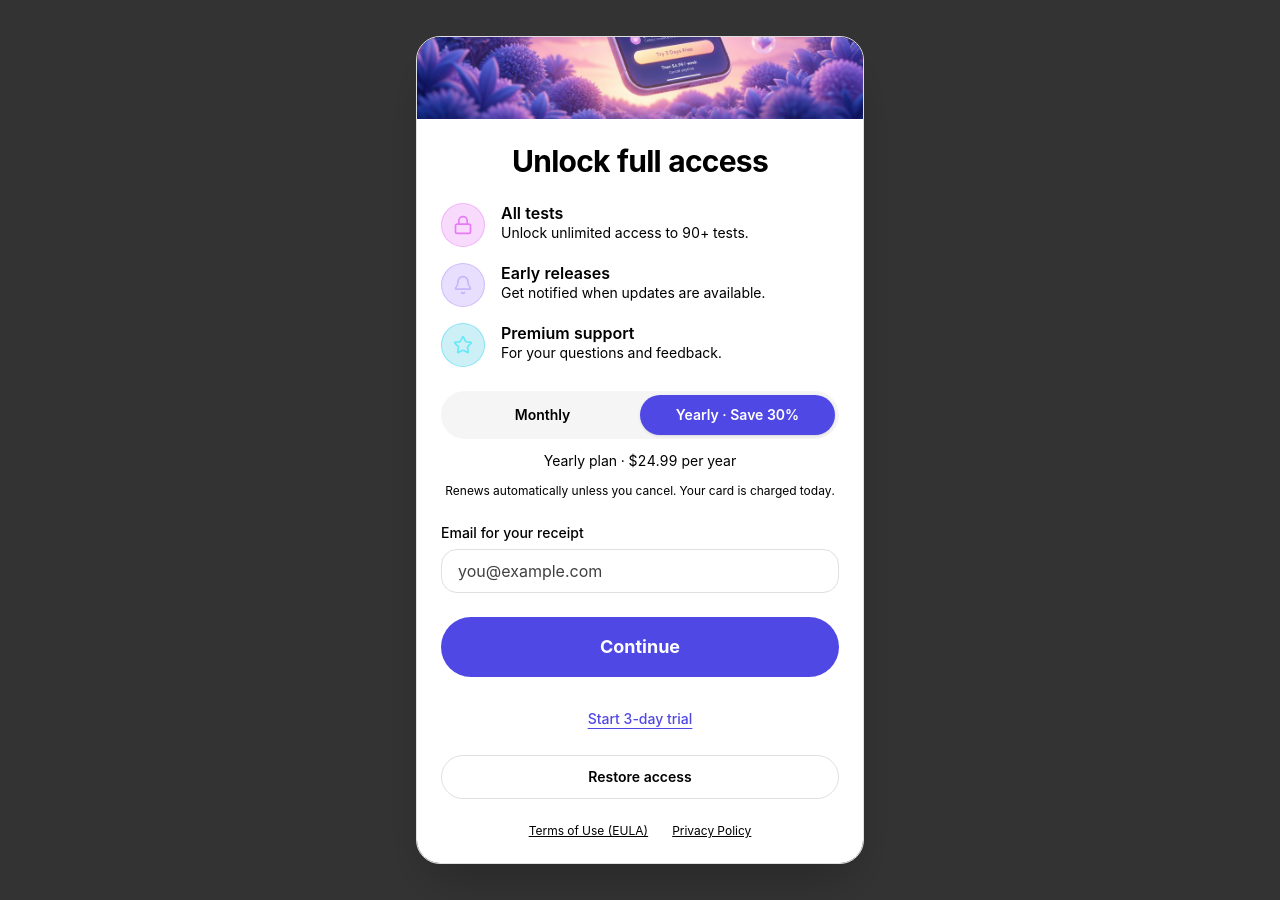
Scenario: PaywallModal trial entry › does not start a trial when the code is rejected
(page scrolled)
Click the button "Start 3-day trial".
click(640, 719)  # box [588,709,692,729]
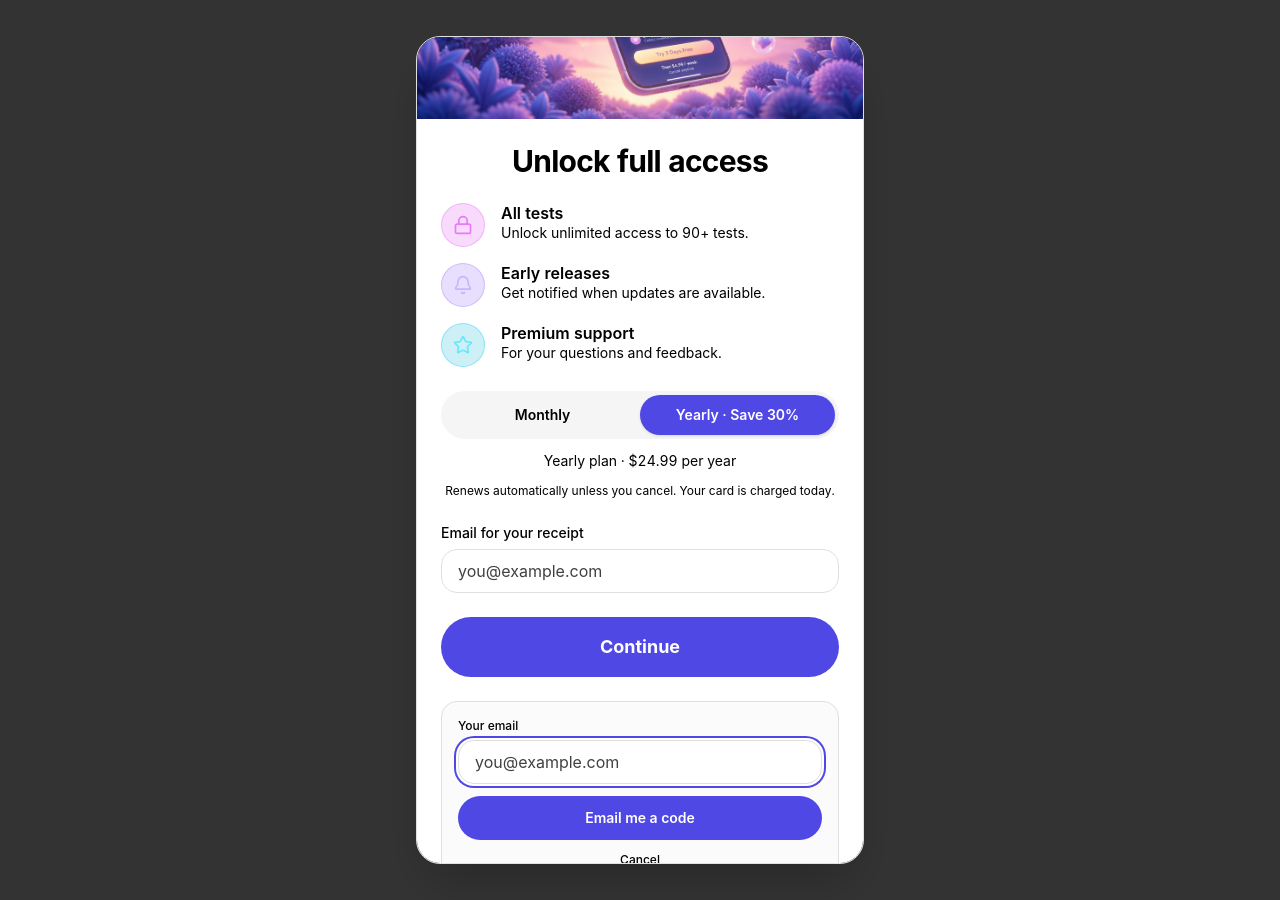
Type "someone@example.com" into the field labelled "Your email".
click(640, 762); type("someone@example.com")  # box [458,740,822,784]
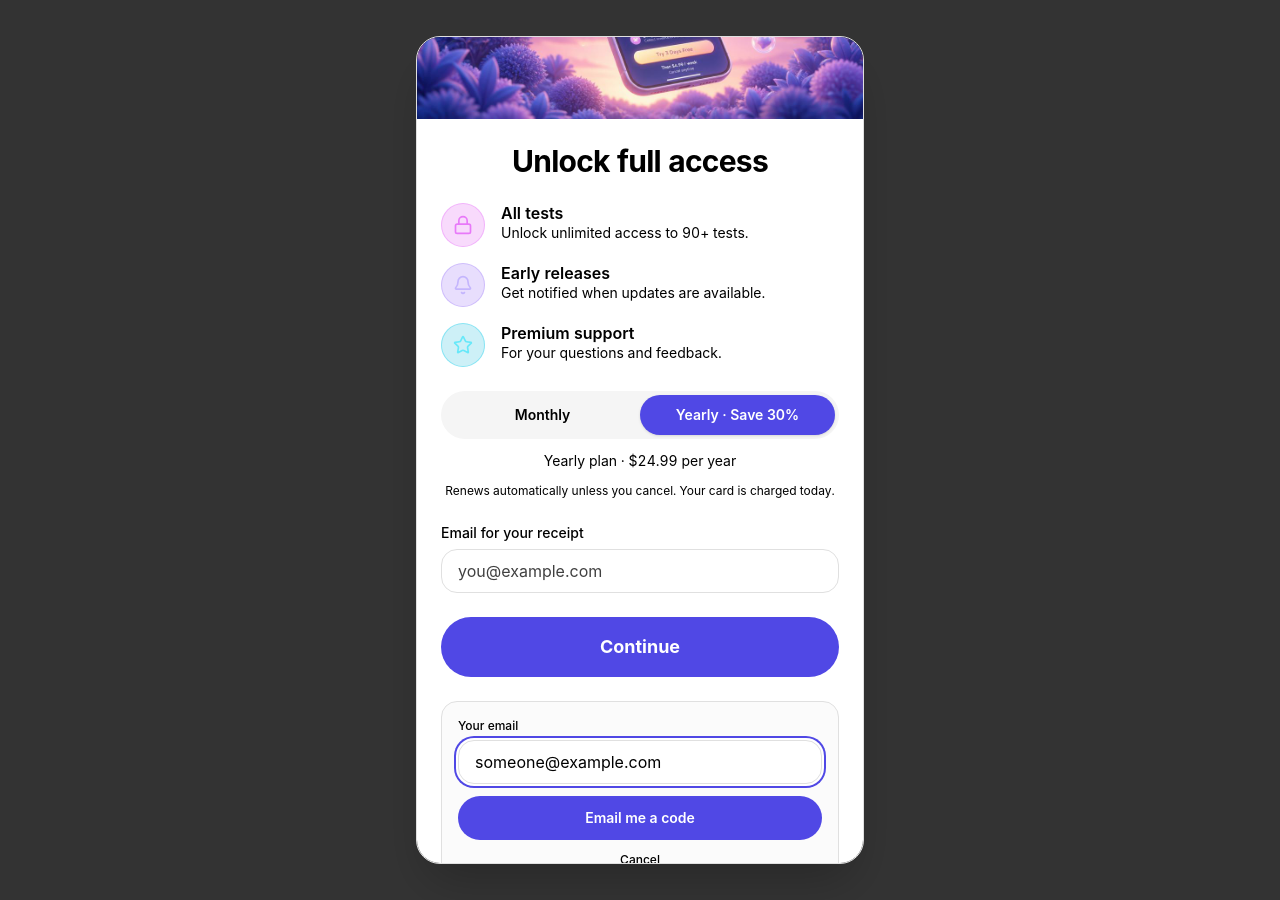
Click the button "Email me a code".
click(640, 818)  # box [458,796,822,840]
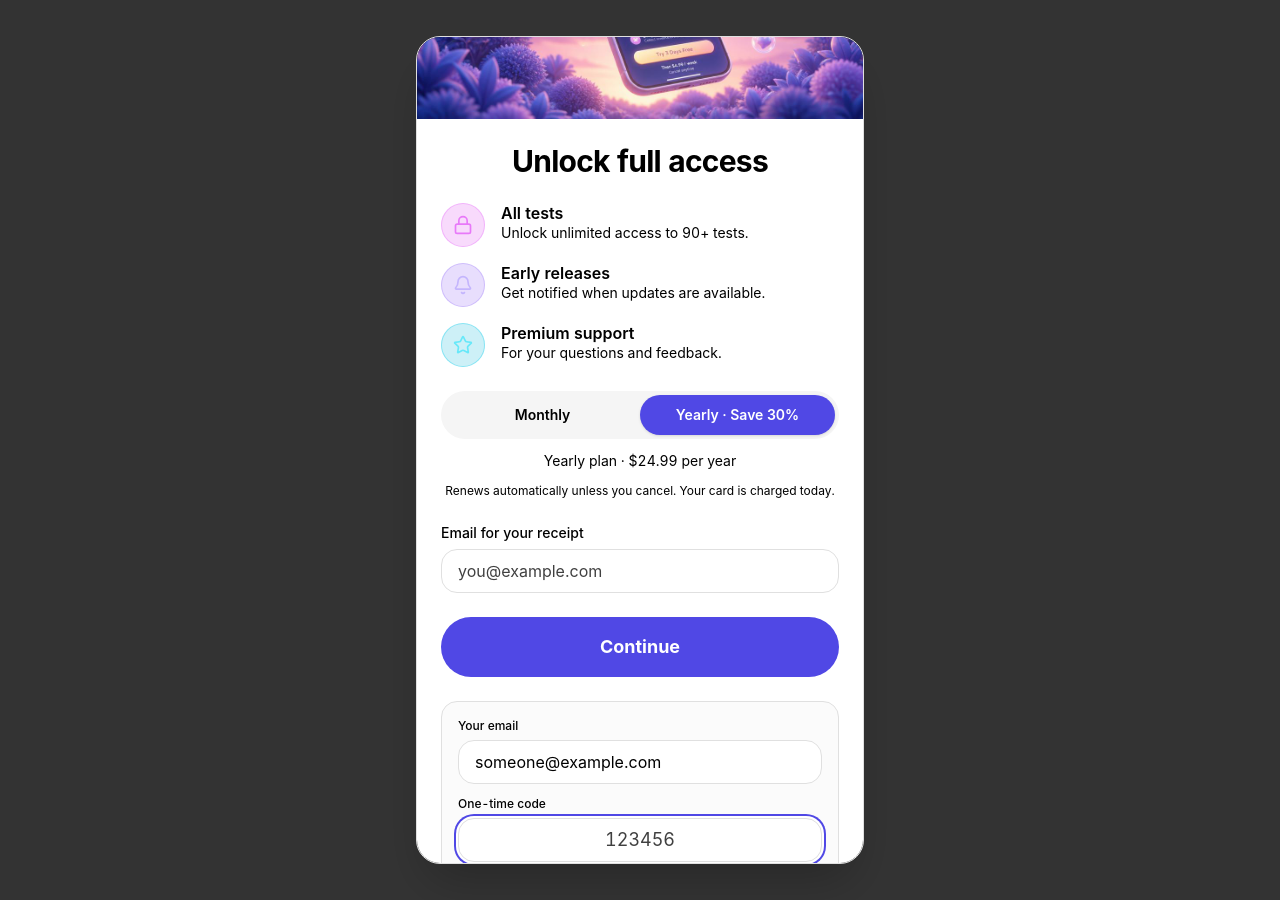
Type "000000" into the field labelled "One-time code".
click(640, 840); type("000000")  # box [458,818,822,862]
(page scrolled)
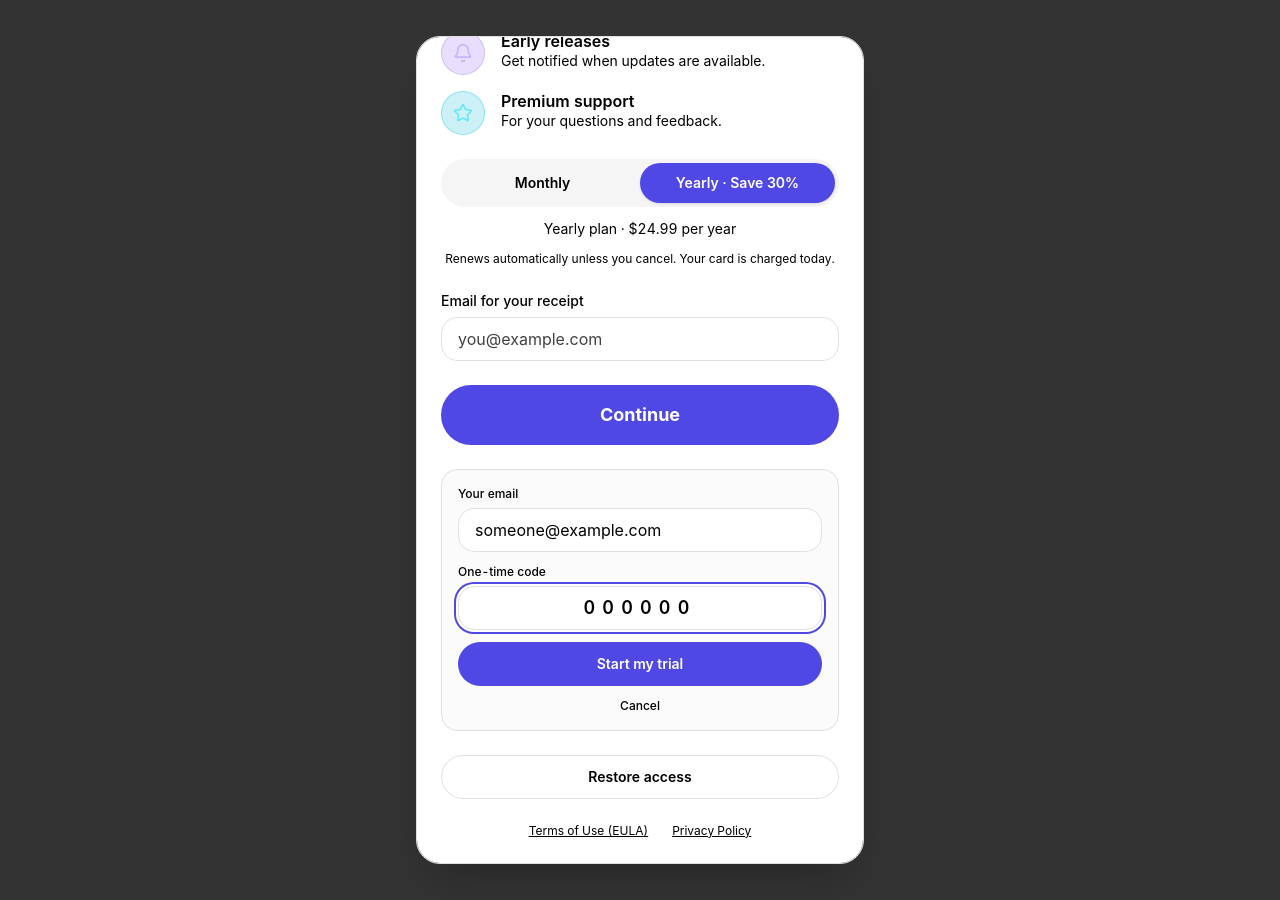
Click the button "Start my trial".
click(640, 664)  # box [458,642,822,686]
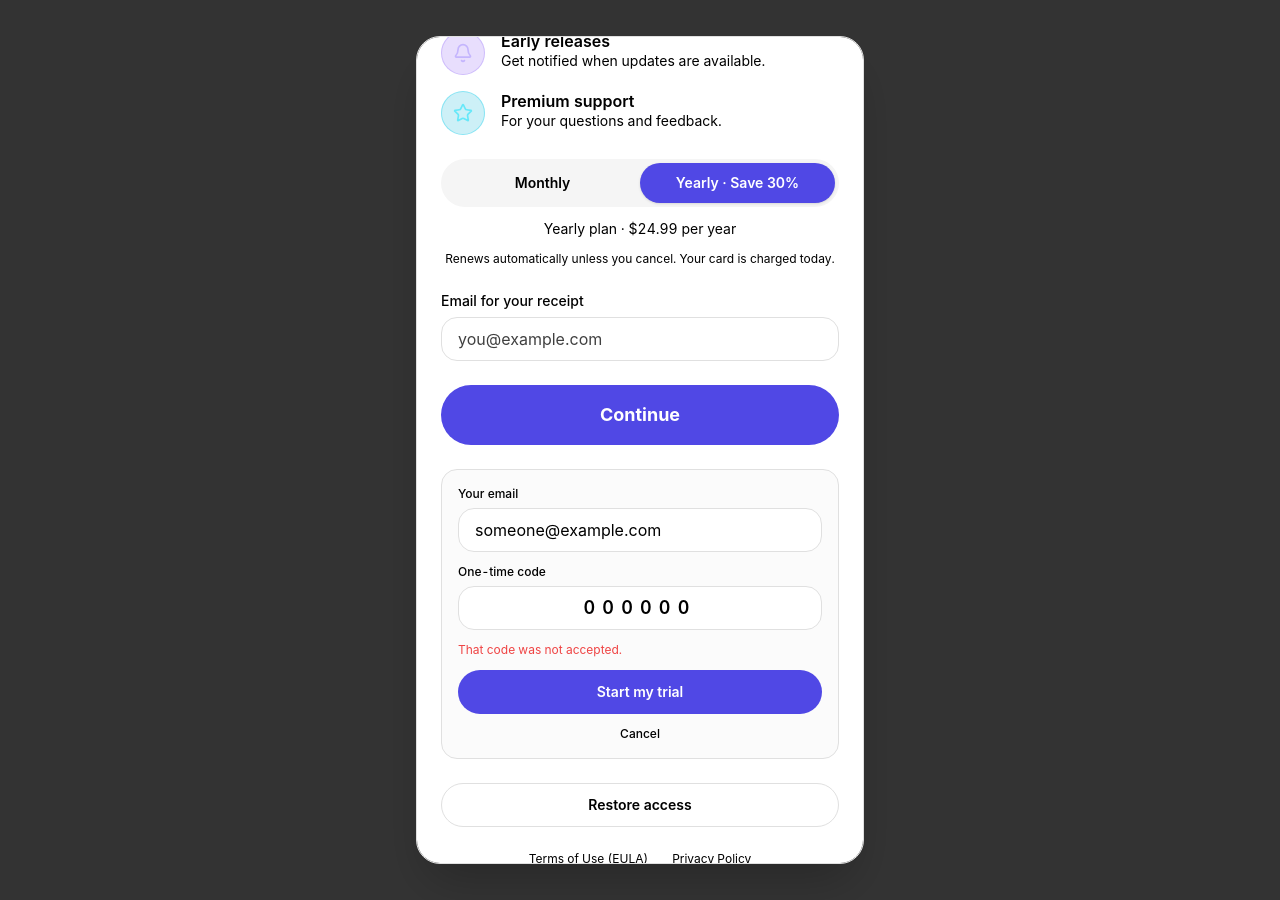
Check: the message shows "not accepted", box [458,642,622,657]
